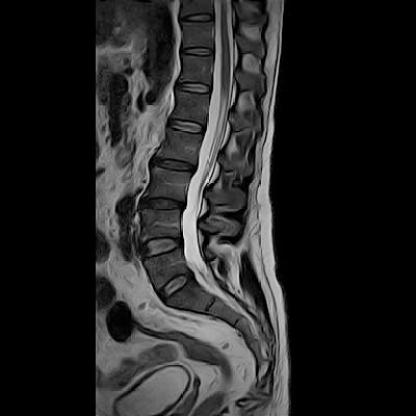Degenerative Disc Diseaserotation: (150, 157, 197, 174), (142, 195, 185, 213)
Disc Bulgerotation: (139, 236, 182, 256), (150, 157, 197, 174), (142, 195, 185, 213)
